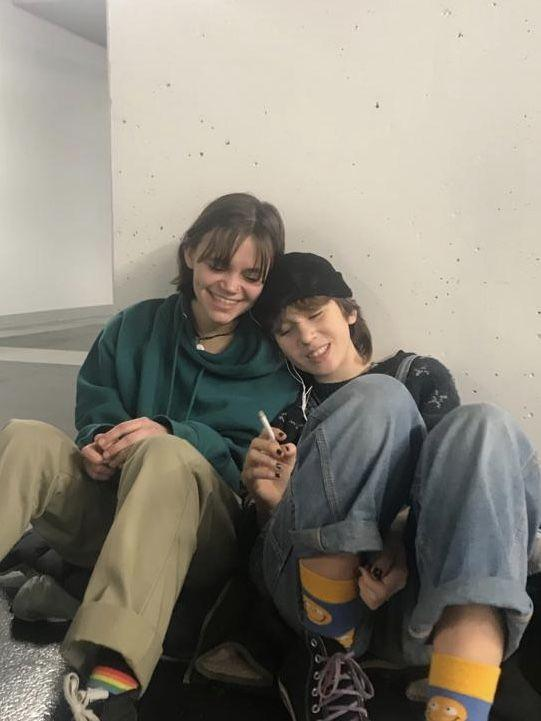cigarette: (257, 410, 279, 444)
